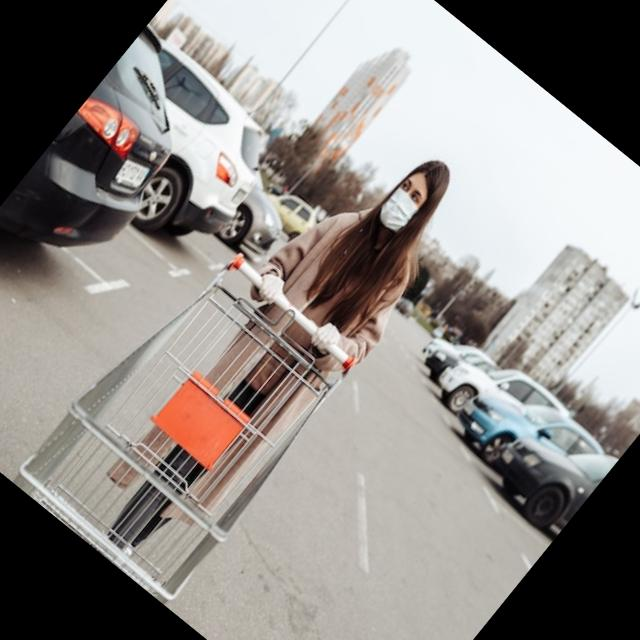Person: (64, 112, 497, 598)
